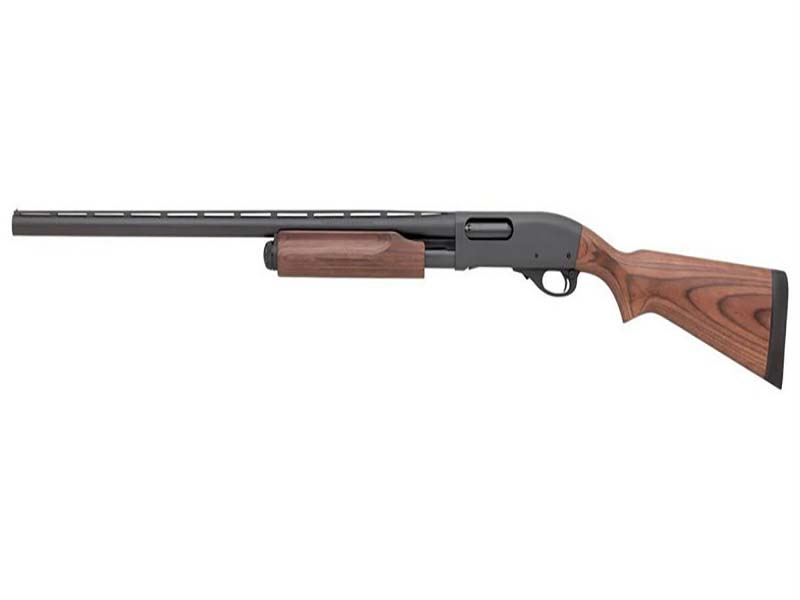fucile: (6, 187, 798, 409)
